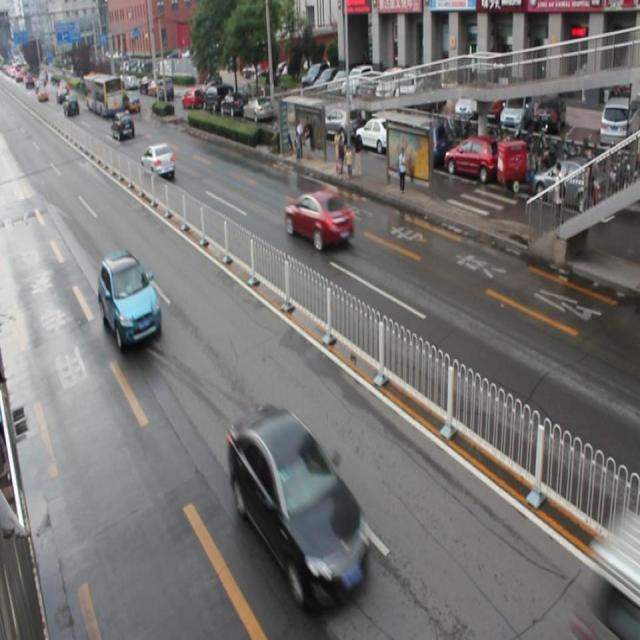car: (229, 408, 371, 603), (98, 250, 161, 349), (283, 191, 354, 251), (140, 142, 174, 179), (112, 111, 135, 143)
